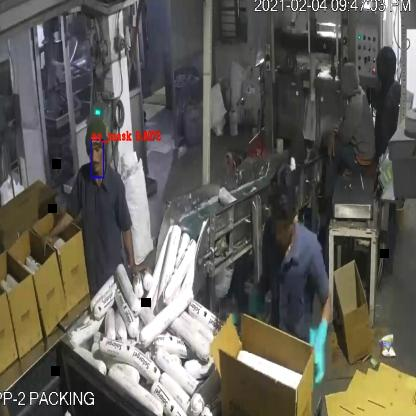glove: (304, 302, 328, 384)
no_glove: (35, 200, 88, 262), (118, 227, 140, 280)
